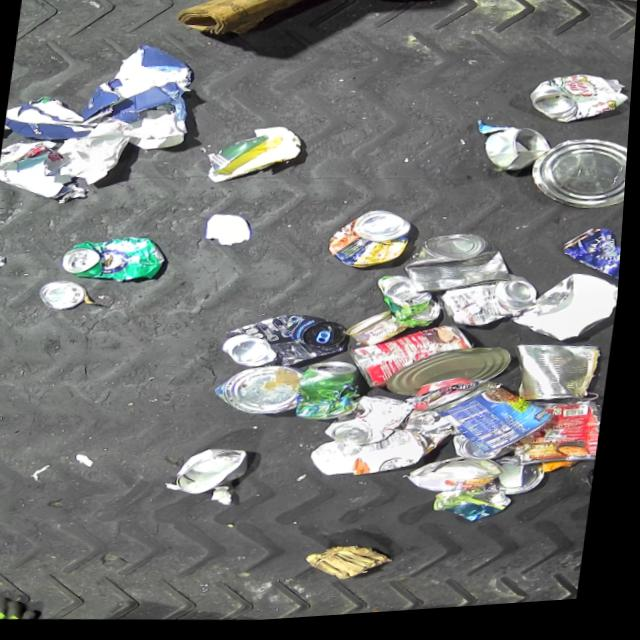can: (434, 377, 567, 465), (351, 322, 483, 401), (223, 309, 354, 379), (528, 137, 631, 222), (405, 232, 522, 306), (391, 345, 518, 408), (513, 345, 609, 413), (521, 402, 609, 476), (442, 275, 545, 338), (527, 74, 633, 135), (329, 208, 418, 277), (62, 231, 171, 287), (328, 393, 422, 454), (217, 362, 309, 423), (412, 456, 513, 502), (299, 360, 370, 425), (376, 275, 450, 335), (176, 445, 256, 500), (559, 230, 626, 292), (486, 129, 557, 181), (350, 310, 414, 354), (497, 459, 555, 504), (456, 437, 522, 468), (40, 279, 92, 313), (407, 0, 509, 2)
